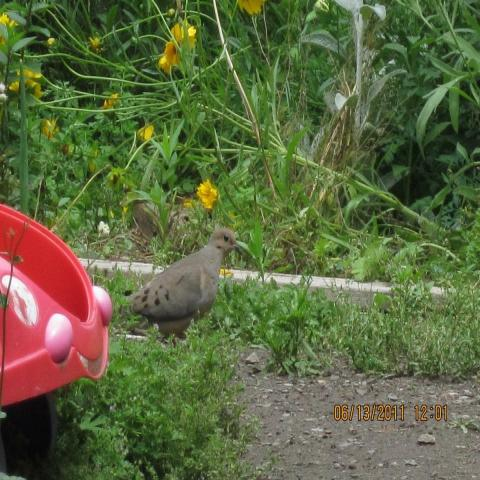bird: (126, 224, 244, 345)
